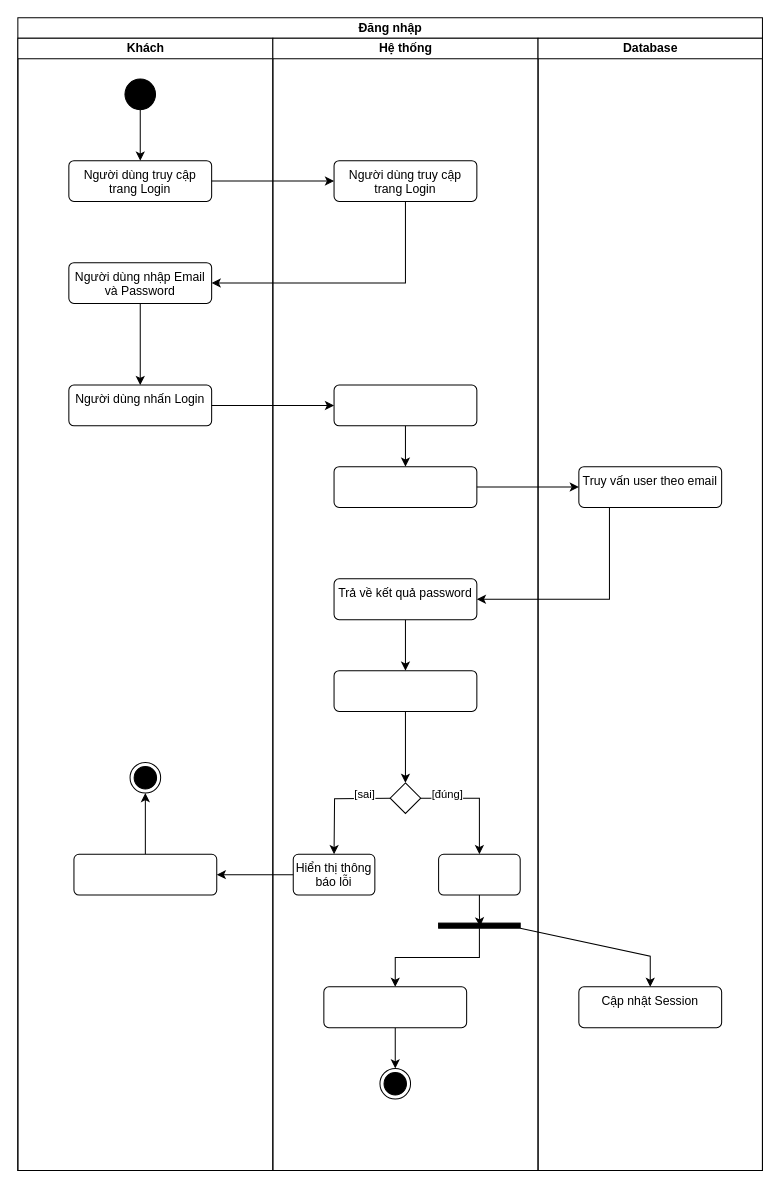
Image size: 780x1188. Some labels were removed from this diagram. The shapes that lost their labels are listed below. From the top down, each one's centre as x and y in pixels, then its label:
the point at 405,405: Kiểm tra dữ liệu đầu vào
the point at 405,486: Gửi yêu cầu xác thực
the point at 405,690: So sánh password
the point at 145,874: Nhập lại email hoặc password
the point at 479,874: Tạo Session đăng nhập
the point at 395,1007: Chuyển đến Dashboard hoặc Trang chủ
